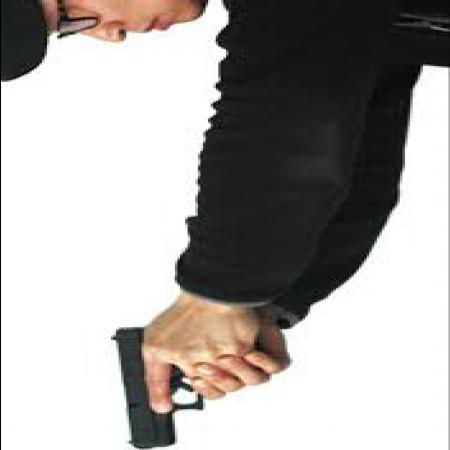Pistol: (100, 324, 266, 449)
